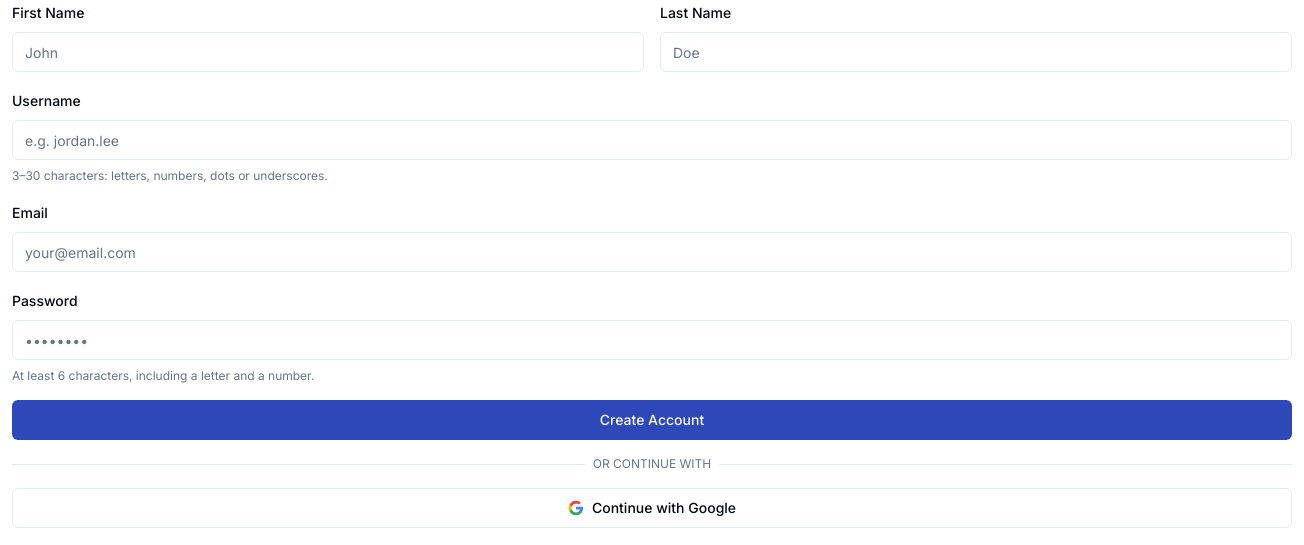
SignUpForm — suggested username › suggests one from the name until the person types their own
Later steps or results of the test are not shown.
In the field labelled "First Name": [328, 52] box [12,32,644,72], type "Nina"
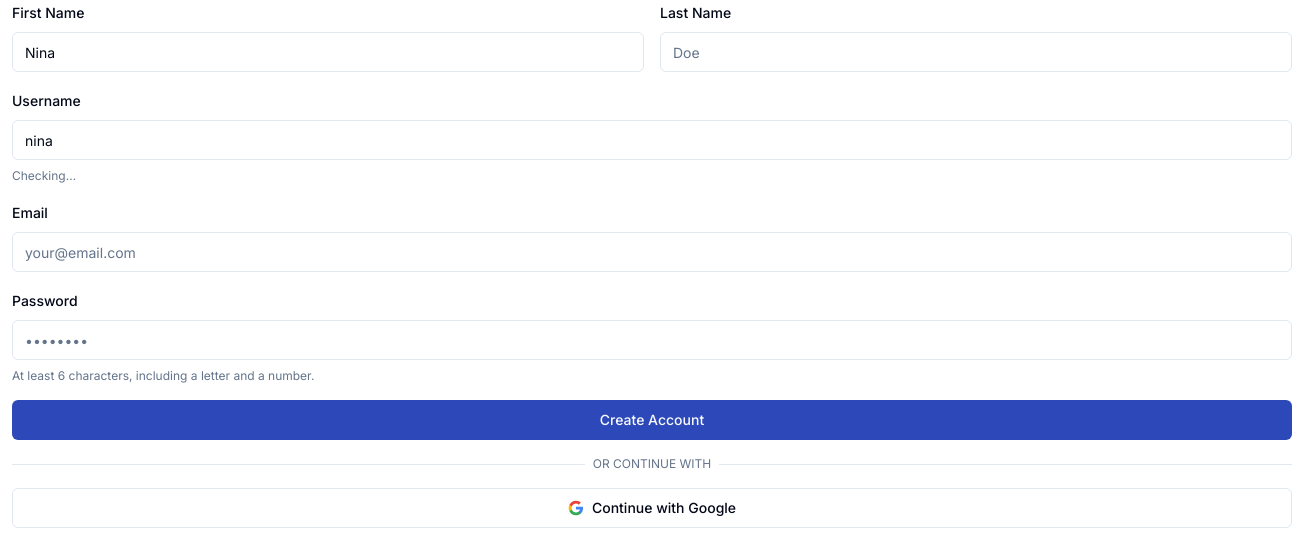
In the field labelled "Last Name": [976, 52] box [660,32,1292,72], type "Patel"
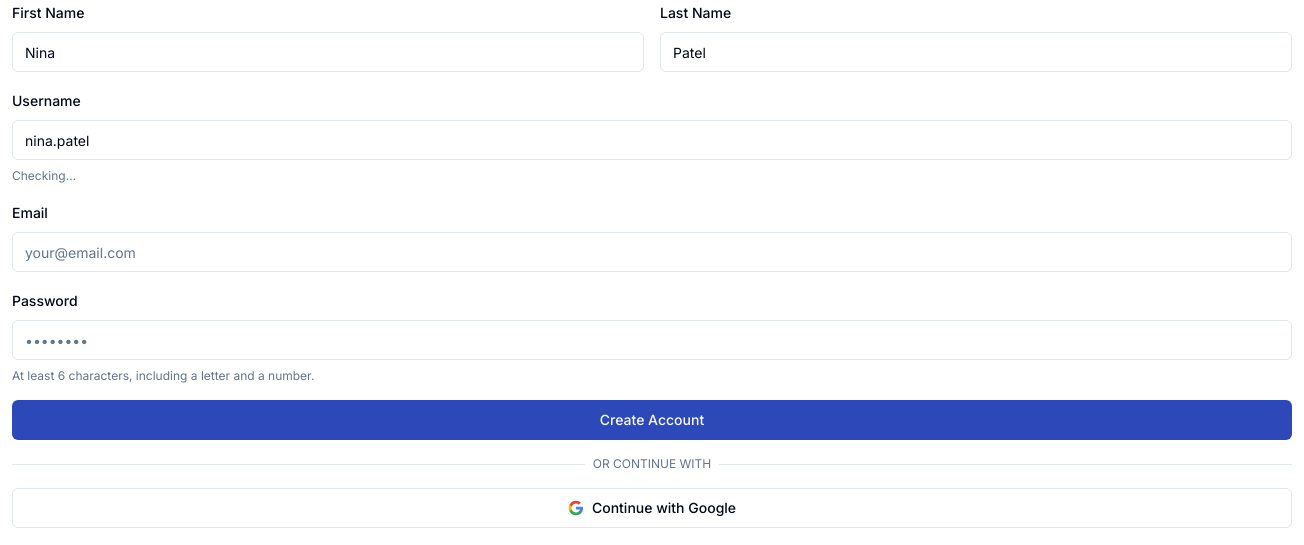
Expected: the field labelled "Username" holds "nina.patel", [12,120,1292,160]
